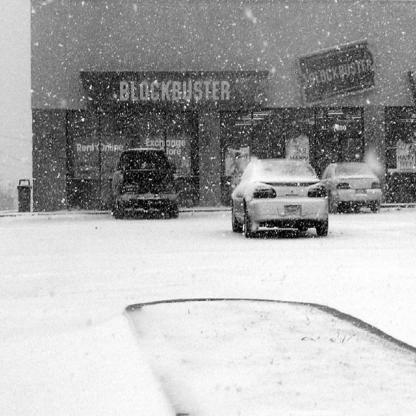car: (218, 146, 337, 242), (95, 140, 192, 224), (322, 151, 394, 213)
